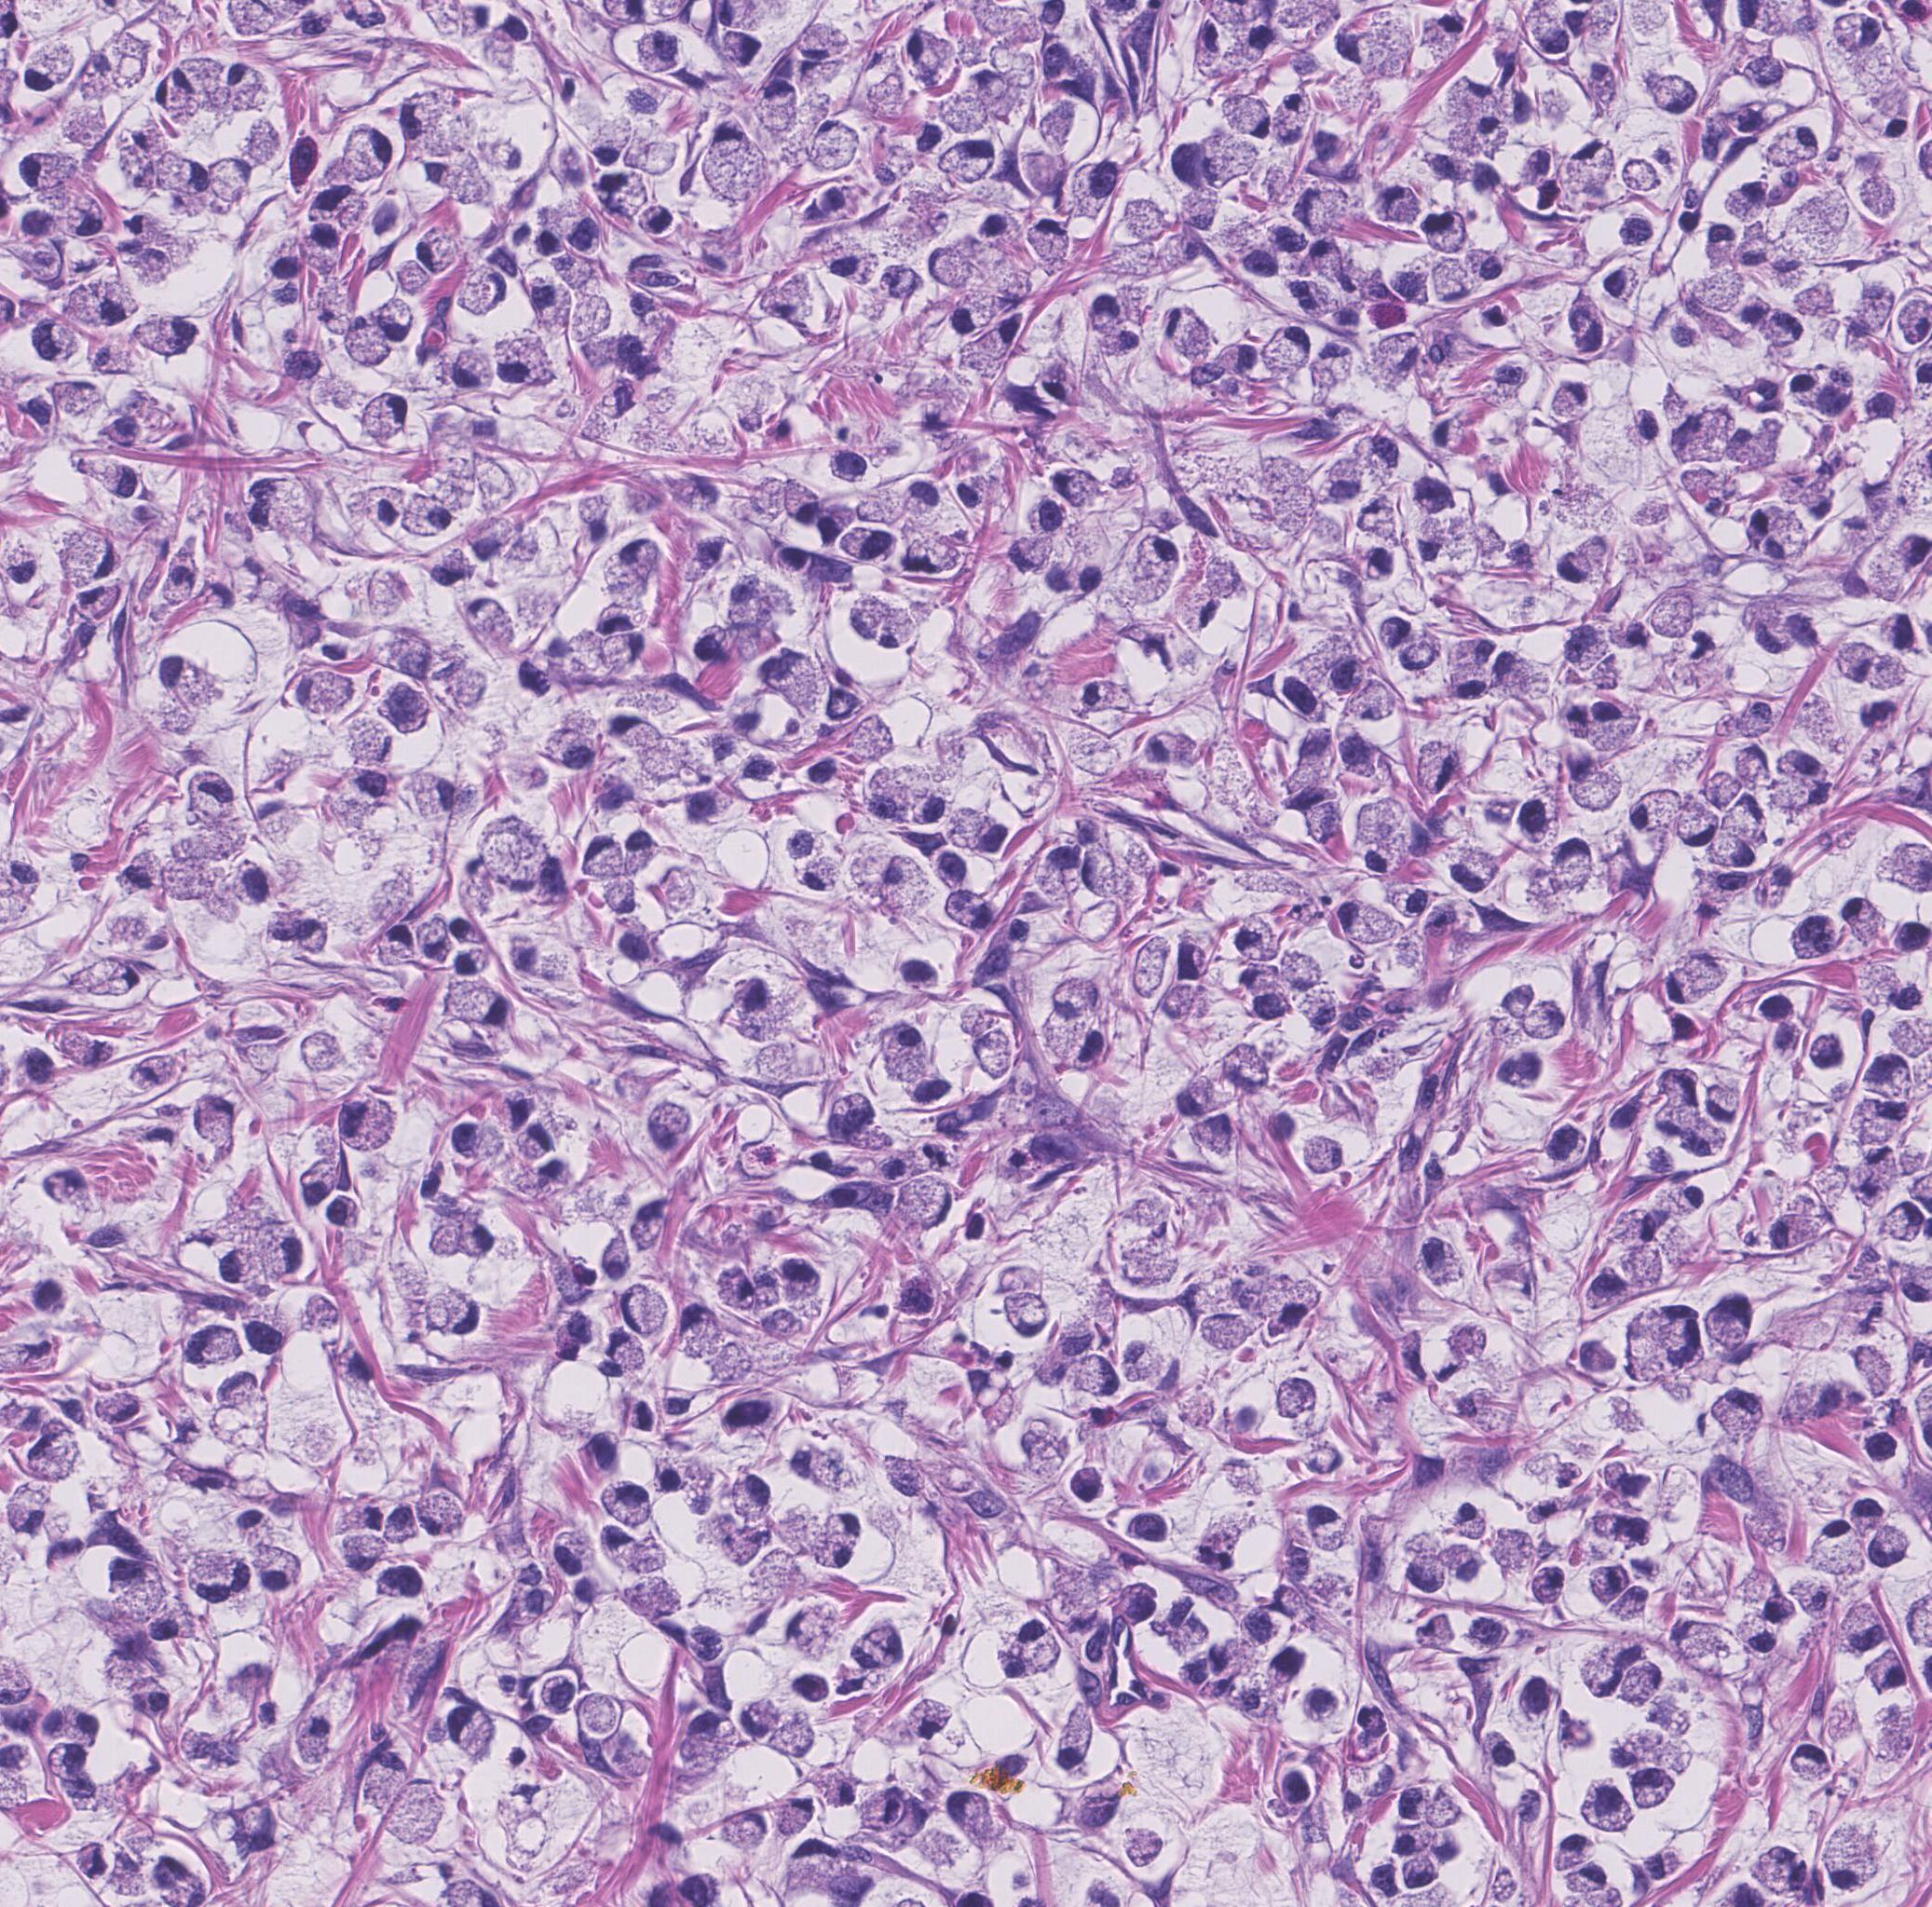ring_cell_cancer: (487, 812, 566, 899), (702, 120, 769, 201), (1670, 1621, 1749, 1680), (1354, 800, 1434, 854), (1343, 16, 1411, 77), (1123, 534, 1177, 609), (1177, 133, 1249, 189), (1303, 644, 1373, 700), (873, 772, 945, 826), (1563, 749, 1625, 810), (1155, 300, 1216, 360), (1004, 1614, 1060, 1678), (189, 1090, 238, 1163), (1672, 407, 1733, 465), (1791, 368, 1855, 423), (887, 1175, 954, 1228), (253, 478, 309, 540), (1867, 68, 1913, 141), (334, 1097, 398, 1147), (1333, 899, 1404, 945), (851, 602, 917, 651), (982, 217, 1022, 297), (763, 657, 819, 714), (695, 625, 779, 664), (1808, 1516, 1867, 1570), (185, 767, 241, 823), (438, 1207, 498, 1259), (157, 651, 220, 700), (245, 1229, 304, 1280), (1705, 1287, 1754, 1348), (1041, 1025, 1109, 1069), (397, 1778, 444, 1841), (339, 126, 393, 180), (814, 1509, 865, 1566), (1261, 1280, 1321, 1329), (444, 987, 510, 1030), (1032, 847, 1083, 903), (496, 335, 549, 388), (901, 24, 954, 77), (23, 45, 79, 94), (1197, 1306, 1252, 1355), (643, 1097, 690, 1154), (610, 540, 657, 597), (72, 957, 138, 997), (618, 1280, 667, 1334), (880, 859, 929, 913), (1069, 157, 1118, 211), (1829, 1830, 1876, 1886), (879, 1027, 926, 1083), (1665, 957, 1721, 1004), (75, 283, 136, 325), (788, 1446, 849, 1488), (1588, 704, 1640, 753), (791, 1607, 845, 1654), (423, 1285, 477, 1332), (297, 672, 353, 718), (484, 16, 529, 72), (1570, 143, 1616, 199), (1729, 800, 1768, 864), (445, 1706, 496, 1755), (192, 1554, 245, 1601), (608, 1532, 660, 1579), (1852, 1102, 1906, 1147), (903, 534, 959, 578), (355, 396, 412, 438), (65, 533, 115, 580), (1653, 68, 1700, 119), (1759, 1842, 1803, 1897), (1266, 327, 1310, 381), (795, 1837, 835, 1895), (1710, 1395, 1768, 1435), (688, 1713, 735, 1762), (1743, 1573, 1792, 1621), (1630, 791, 1679, 838), (1729, 424, 1778, 472), (246, 1303, 292, 1353), (678, 1308, 725, 1355), (830, 234, 877, 281), (606, 1481, 655, 1526), (1789, 1743, 1838, 1788), (468, 601, 512, 651), (1794, 1570, 1838, 1621), (1605, 1732, 1668, 1767), (33, 1427, 73, 1481), (947, 1797, 1001, 1837), (1530, 5, 1570, 59), (414, 915, 454, 969), (1307, 1498, 1345, 1554), (1855, 1341, 1890, 1402), (1763, 127, 1824, 162), (1006, 1291, 1048, 1341), (404, 496, 456, 536), (1050, 978, 1102, 1018), (954, 812, 1006, 852), (797, 21, 849, 61), (1560, 543, 1612, 583), (1843, 896, 1883, 948), (145, 316, 199, 355), (185, 1329, 239, 1367), (928, 243, 982, 281), (950, 889, 996, 934), (587, 120, 632, 166), (1420, 211, 1466, 257), (1672, 798, 1717, 843), (756, 84, 800, 131), (1548, 845, 1595, 889), (232, 1511, 281, 1552), (54, 194, 105, 234), (5, 1483, 45, 1533), (1060, 1708, 1095, 1766), (31, 321, 77, 365), (1452, 852, 1497, 896), (1431, 260, 1476, 304), (1520, 997, 1565, 1041), (257, 1542, 299, 1589), (341, 767, 388, 809), (1074, 1359, 1121, 1401), (367, 1755, 402, 1811), (449, 1125, 501, 1161), (150, 1607, 197, 1647), (732, 1474, 772, 1521), (374, 295, 414, 342), (583, 831, 624, 878), (1298, 189, 1345, 229), (1036, 215, 1071, 269), (1436, 1540, 1485, 1579), (1221, 100, 1270, 138), (1703, 222, 1742, 271), (772, 1722, 821, 1760), (421, 1495, 465, 1537), (776, 1793, 818, 1837), (818, 119, 852, 171), (1048, 470, 1101, 505), (1501, 650, 1542, 693), (159, 155, 204, 196), (421, 224, 461, 269), (1422, 746, 1462, 791), (1087, 854, 1132, 894), (1733, 742, 1773, 788), (17, 155, 75, 187), (5, 400, 52, 438), (341, 1535, 388, 1573), (943, 140, 990, 178), (954, 290, 992, 337), (300, 1156, 337, 1205), (1766, 1212, 1815, 1249), (344, 726, 393, 763), (1583, 1645, 1618, 1696), (1841, 12, 1883, 54), (1623, 1663, 1663, 1706), (1880, 1203, 1923, 1243), (229, 65, 267, 110), (1869, 1523, 1908, 1568), (1417, 1245, 1462, 1284), (162, 548, 196, 601), (1211, 342, 1258, 379), (299, 1715, 334, 1764), (1553, 1830, 1595, 1870), (463, 272, 505, 313), (1190, 1116, 1230, 1158), (781, 482, 821, 524), (1452, 664, 1494, 704), (211, 157, 250, 201), (555, 1528, 594, 1572), (454, 344, 493, 388), (1305, 1130, 1343, 1174), (358, 484, 404, 520), (576, 499, 617, 540), (220, 1247, 262, 1285), (818, 1767, 859, 1806), (517, 1121, 559, 1160), (608, 1327, 646, 1369), (267, 236, 304, 279), (550, 728, 594, 765), (1534, 1563, 1569, 1608), (1331, 454, 1364, 501), (89, 466, 141, 496), (1703, 1081, 1743, 1119), (1848, 1612, 1885, 1654), (1591, 1566, 1633, 1603), (613, 716, 655, 753), (241, 1804, 276, 1848), (472, 519, 515, 554), (721, 1814, 767, 1848), (844, 527, 889, 561), (1481, 1729, 1518, 1769), (1013, 534, 1050, 575), (1551, 382, 1591, 419), (1392, 1820, 1436, 1853), (1408, 1549, 1441, 1593), (1450, 1500, 1487, 1539), (1867, 1652, 1902, 1692), (1280, 953, 1315, 994), (178, 63, 222, 94), (1745, 1617, 1782, 1654), (639, 35, 678, 70), (912, 1703, 952, 1736), (1633, 1773, 1675, 1804), (1397, 1860, 1441, 1890), (1853, 1493, 1887, 1532), (96, 1397, 140, 1425), (622, 831, 655, 868), (477, 136, 519, 164), (741, 1703, 774, 1738), (386, 1505, 417, 1542), (903, 482, 936, 513), (601, 1240, 629, 1275), (809, 859, 838, 891), (1179, 1083, 1212, 1111), (1567, 1869, 1607, 1891), (1649, 1849, 1675, 1877)
